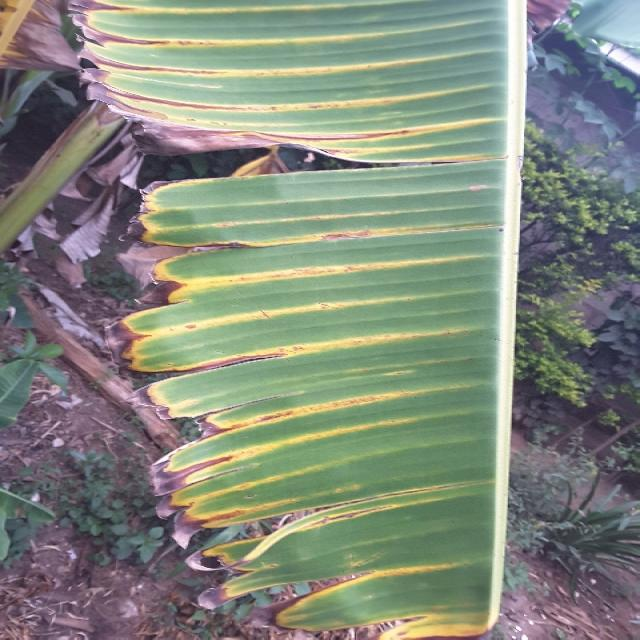Cordana: (78, 0, 512, 639), (0, 0, 50, 93)
